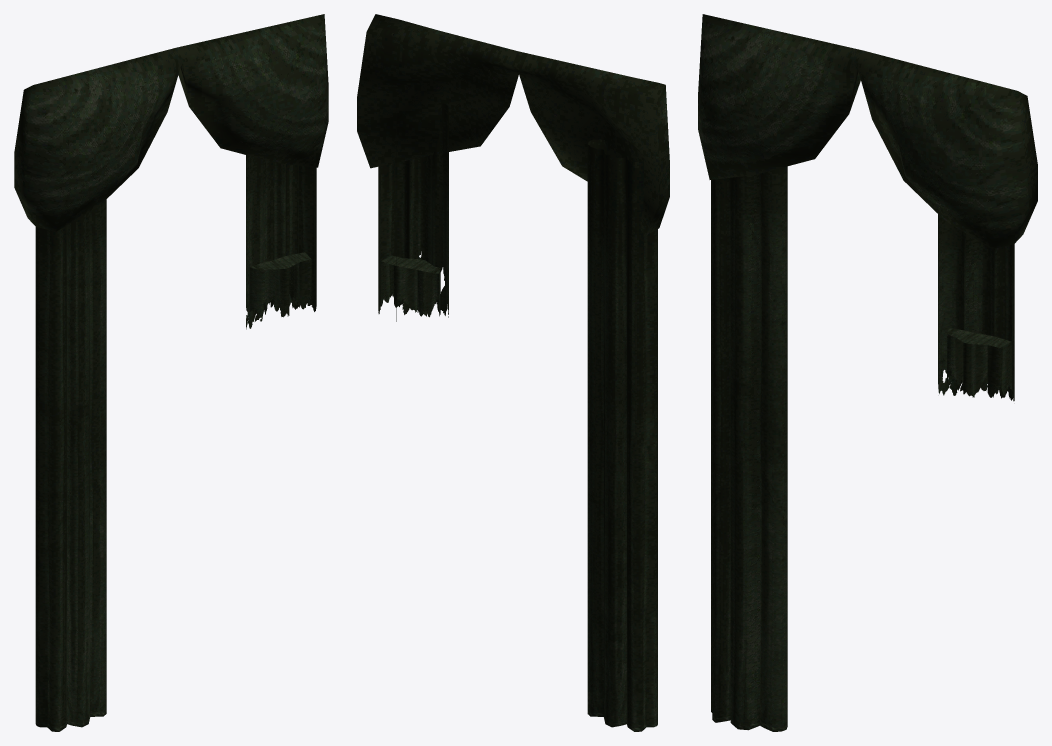
File: curtain08_long_broken02.dae
3 views of the same model, side by side, from view 1: azimuth 30°, elevation 25°; view 2: azimuth 150°, elevation 25°; view 3: azimuth 330°, elevation 25° (orthographic). The views are drawn at different scales.
Parts seen in each view (by area): view 1: polySurface198, polySurface193, polySurface192; view 2: polySurface198, polySurface193, polySurface192; view 3: polySurface198, polySurface193, polySurface192.
Boxes of the visible parts, <box> form: polySurface198: <box>14,14,328,731</box>; polySurface193: <box>246,155,316,329</box>; polySurface192: <box>249,252,311,317</box>; polySurface198: <box>357,14,669,731</box>; polySurface193: <box>378,100,448,321</box>; polySurface192: <box>381,255,440,317</box>; polySurface198: <box>698,14,1037,731</box>; polySurface193: <box>938,214,1014,401</box>; polySurface192: <box>947,328,1011,397</box>.
Size of what is drawn, in the model's own units: 2.5 by 5.08 by 0.4673.
